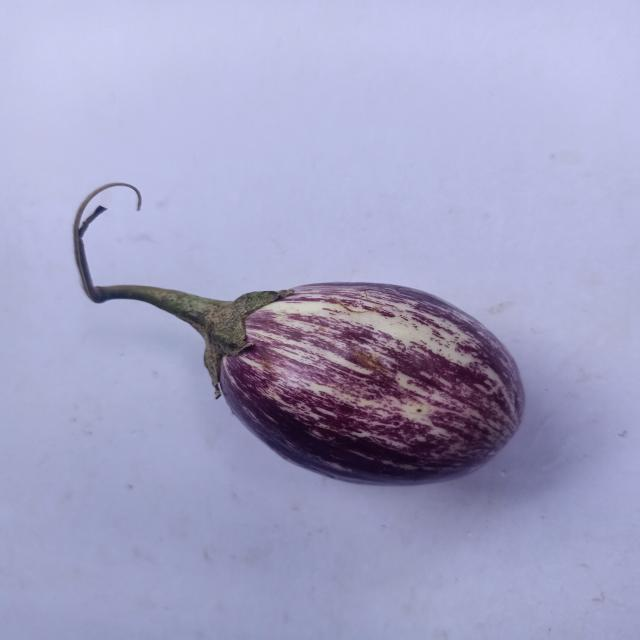Eggplant: (48, 175, 555, 495)
